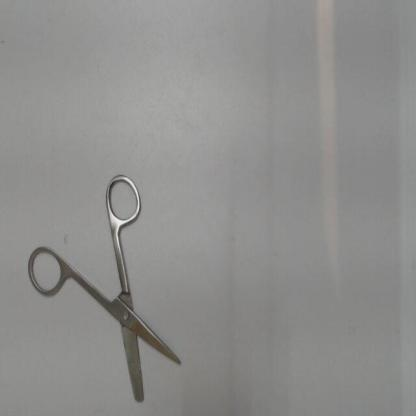Dressing Scissors: (21, 164, 192, 411)
